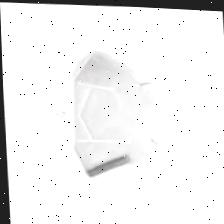mask: (28, 38, 185, 205)
